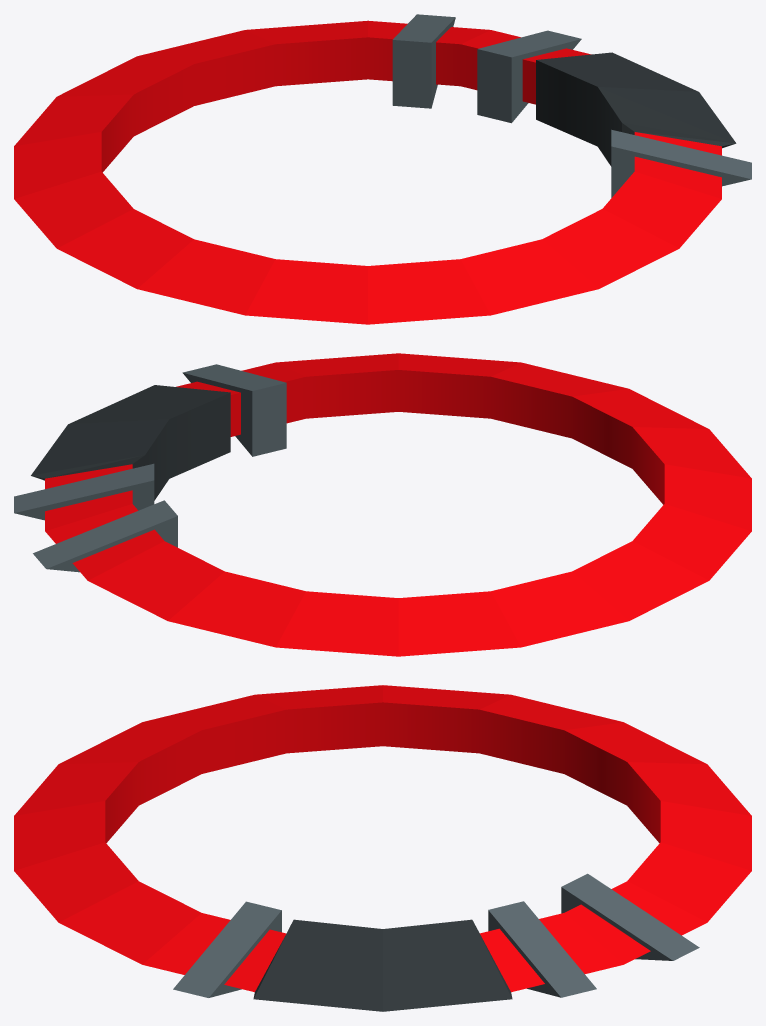
Rendered from Ring Blade 01.FBX.
3 views of the same model, one above another, from view 1: azimuth 30°, elevation 25°; view 2: azimuth 150°, elevation 25°; view 3: azimuth 270°, elevation 25° (orthographic). The views are drawn at different scales.
Visible parts, largest first — view 1: Ring Blade 01; view 2: Ring Blade 01; view 3: Ring Blade 01.
Boxes of the visible parts, x1,y1,x2,y2 form: Ring Blade 01: (14,14,751,324); Ring Blade 01: (14,353,751,656); Ring Blade 01: (14,685,751,1011).
Size of the model in its own units: 65.71 by 6.44 by 62.73.
